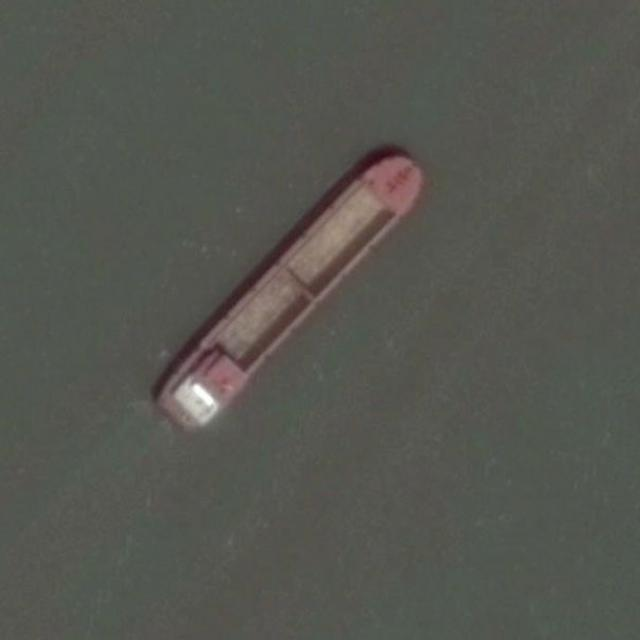ship: (152, 150, 427, 440)
